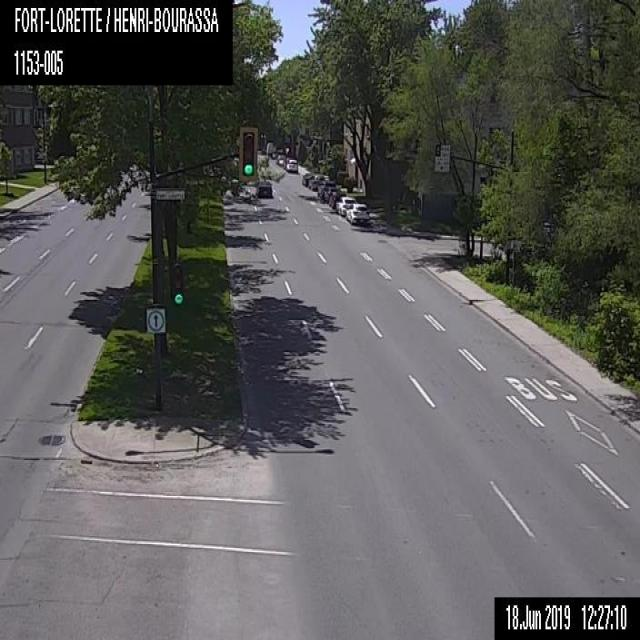vehicle: (347, 203, 372, 224), (336, 195, 357, 215), (255, 177, 272, 199), (317, 180, 335, 198), (328, 190, 345, 208), (322, 185, 337, 201), (308, 173, 322, 189), (286, 157, 298, 170), (266, 142, 276, 156), (300, 172, 310, 185), (276, 154, 286, 164), (282, 156, 290, 167), (271, 149, 278, 157)
